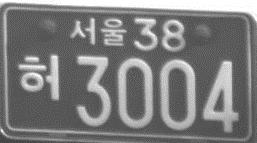0: (158, 58, 197, 130), (117, 57, 155, 128)
3: (73, 54, 111, 127), (131, 15, 159, 53)
4: (202, 59, 240, 132)
8: (160, 18, 187, 52)
서울_O: (69, 17, 128, 48)
허: (17, 52, 62, 103)
